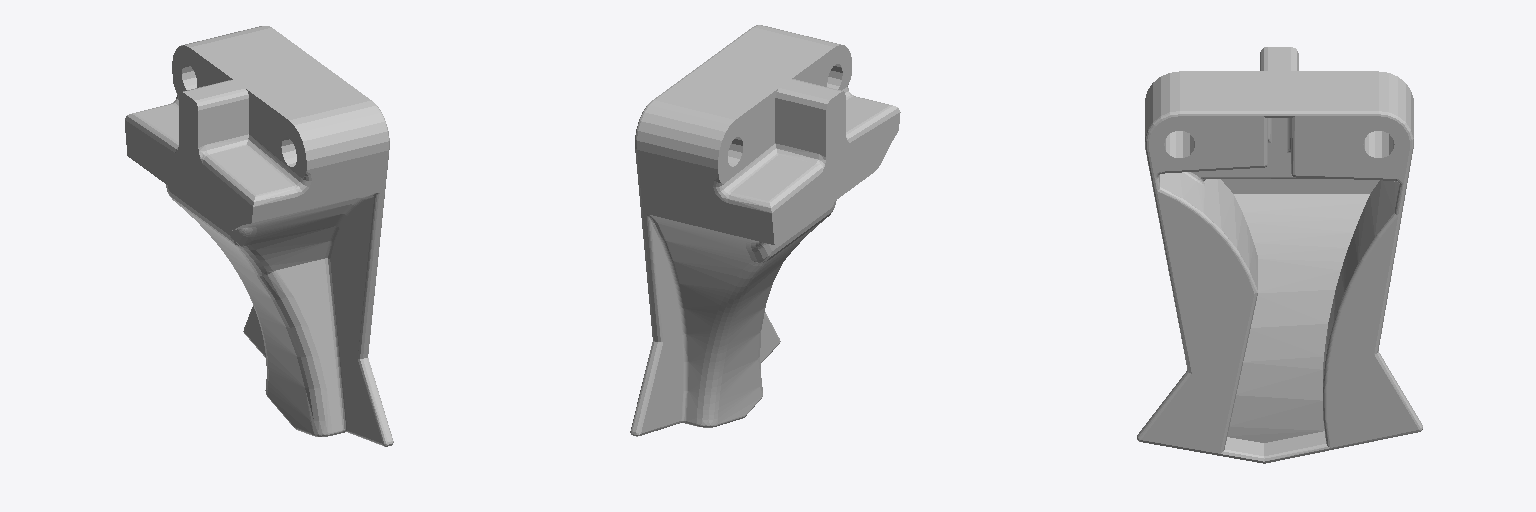
The model's file is Кронштейн правой опоры двигателя.obj.
3 renders of one model, left to right at view 1: azimuth 30°, elevation 25°; view 2: azimuth 150°, elevation 25°; view 3: azimuth 270°, elevation 25°, orthographic.
Visible parts, largest first — view 1: Кронштейн_правой_опоры_двигателя; view 2: Кронштейн_правой_опоры_двигателя; view 3: Кронштейн_правой_опоры_двигателя.
Part boxes in pixels (x1,y1,x2,y2): Кронштейн_правой_опоры_двигателя: (125, 26, 393, 446); Кронштейн_правой_опоры_двигателя: (630, 25, 900, 436); Кронштейн_правой_опоры_двигателя: (1137, 47, 1422, 463).
Bounding box in the file's own units: 40 × 99.65 × 73.26.